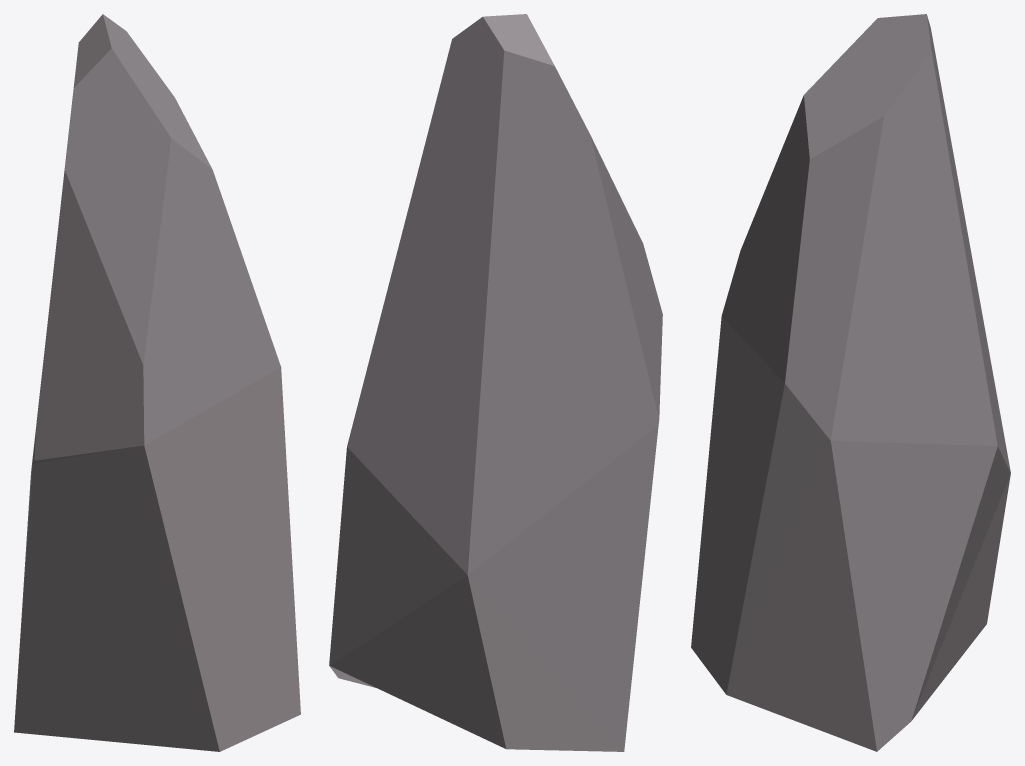
The model's file is Rock_Sharp_m_02.fbx.
3 renders of one model, left to right at view 1: azimuth 30°, elevation 25°; view 2: azimuth 150°, elevation 25°; view 3: azimuth 270°, elevation 25°, orthographic. The views are drawn at different scales.
Parts seen in each view (by area): view 1: Rock_Sharp_m_02; view 2: Rock_Sharp_m_02; view 3: Rock_Sharp_m_02.
Part boxes in pixels (x1=…): Rock_Sharp_m_02: x1=14, y1=14, x2=300, y2=751; Rock_Sharp_m_02: x1=329, y1=14, x2=662, y2=751; Rock_Sharp_m_02: x1=691, y1=14, x2=1010, y2=751.
Size of the model in its own units: 0.7837 by 1.82 by 0.7992.
